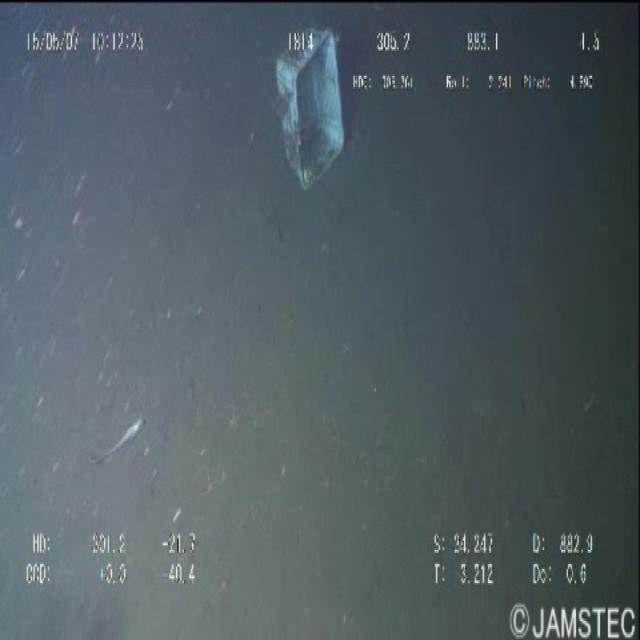Cutlery: (270, 32, 358, 202)
Natual-Debris: (97, 408, 159, 478)
